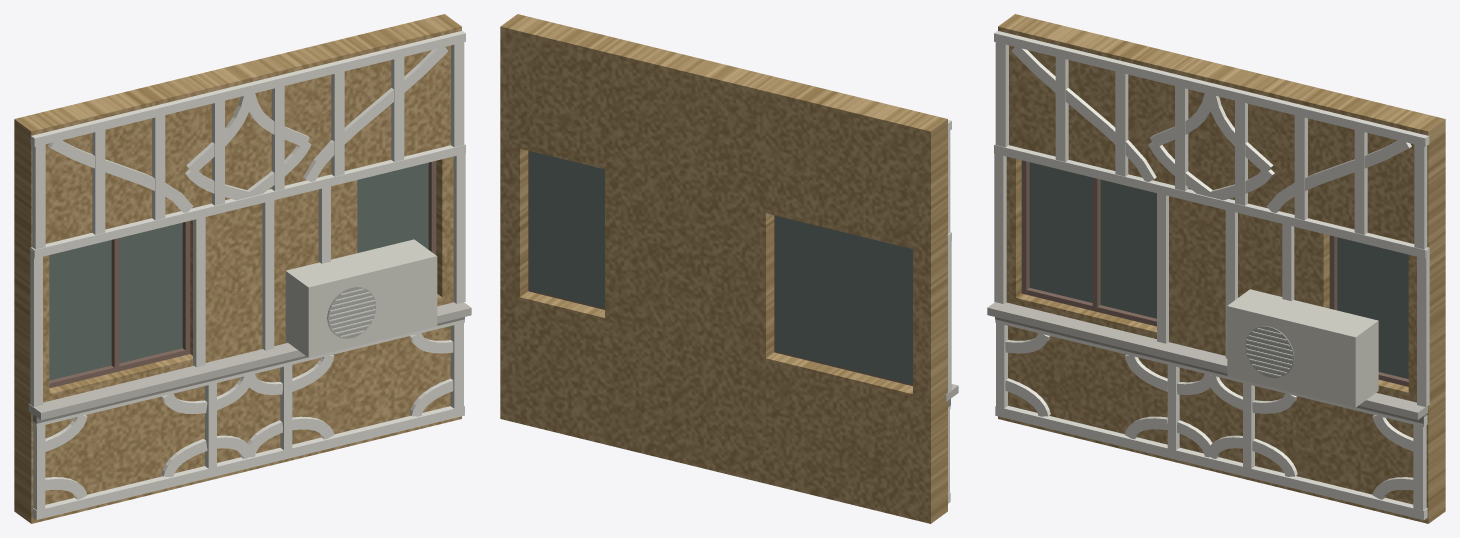
The model's file is sinan-48-courtyard-curved-bands-far.glb.
The picture shows the model from 3 angles, left to right: view 1: azimuth 30°, elevation 25°; view 2: azimuth 150°, elevation 25°; view 3: azimuth 330°, elevation 25°; orthographic projection.
Visible parts, largest first — view 1: 思南路48号住宅院侧曲纹窗间与白色贴条; view 2: 思南路48号住宅院侧曲纹窗间与白色贴条; view 3: 思南路48号住宅院侧曲纹窗间与白色贴条.
Part boxes in pixels (left/top/right/bottom): 思南路48号住宅院侧曲纹窗间与白色贴条: left=14, top=14, right=471, bottom=523; 思南路48号住宅院侧曲纹窗间与白色贴条: left=500, top=14, right=958, bottom=523; 思南路48号住宅院侧曲纹窗间与白色贴条: left=987, top=14, right=1445, bottom=523.
Bounding box in the file's own units: 4.35 × 3.78 × 0.737.
8 materials, 1 textured.
